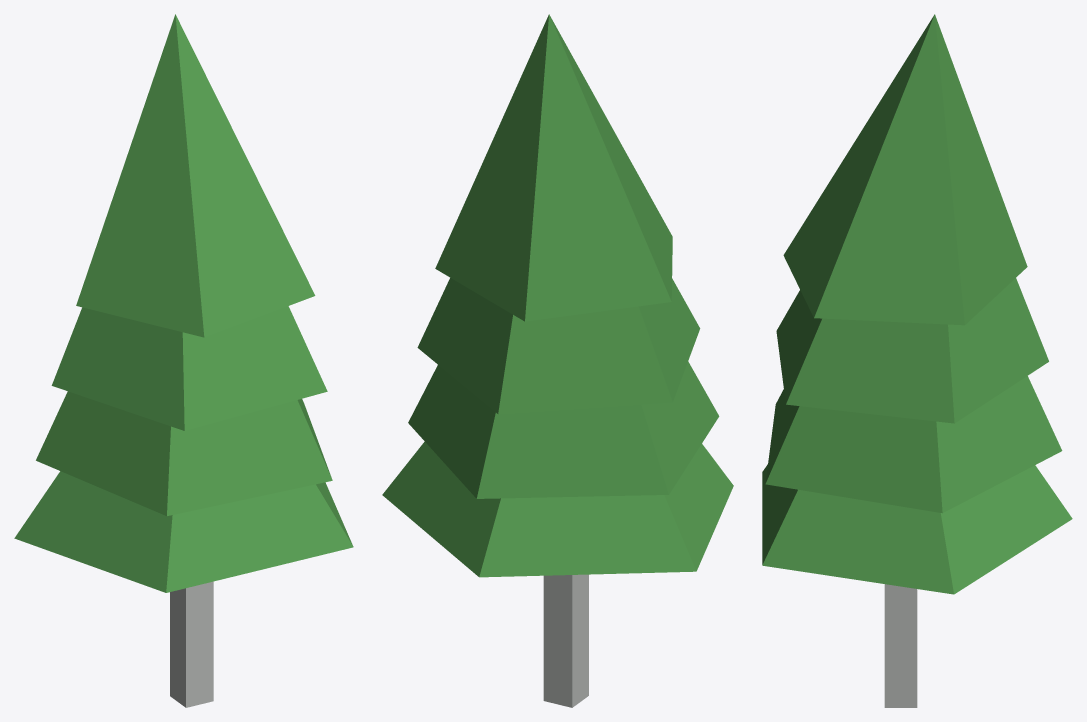
The model's file is low poly tree.fbx.
3 renders of one model, left to right at view 1: azimuth 30°, elevation 25°; view 2: azimuth 150°, elevation 25°; view 3: azimuth 270°, elevation 25°, orthographic. The views are drawn at different scales.
Visible parts, largest first — view 1: Cube; view 2: Cube; view 3: Cube.
Part boxes in pixels (left/top/right/bottom): Cube: left=14, top=14, right=353, bottom=707; Cube: left=382, top=14, right=733, bottom=707; Cube: left=762, top=14, right=1072, bottom=707.
Bounding box in the file's own units: 4.25 × 9 × 3.69.
